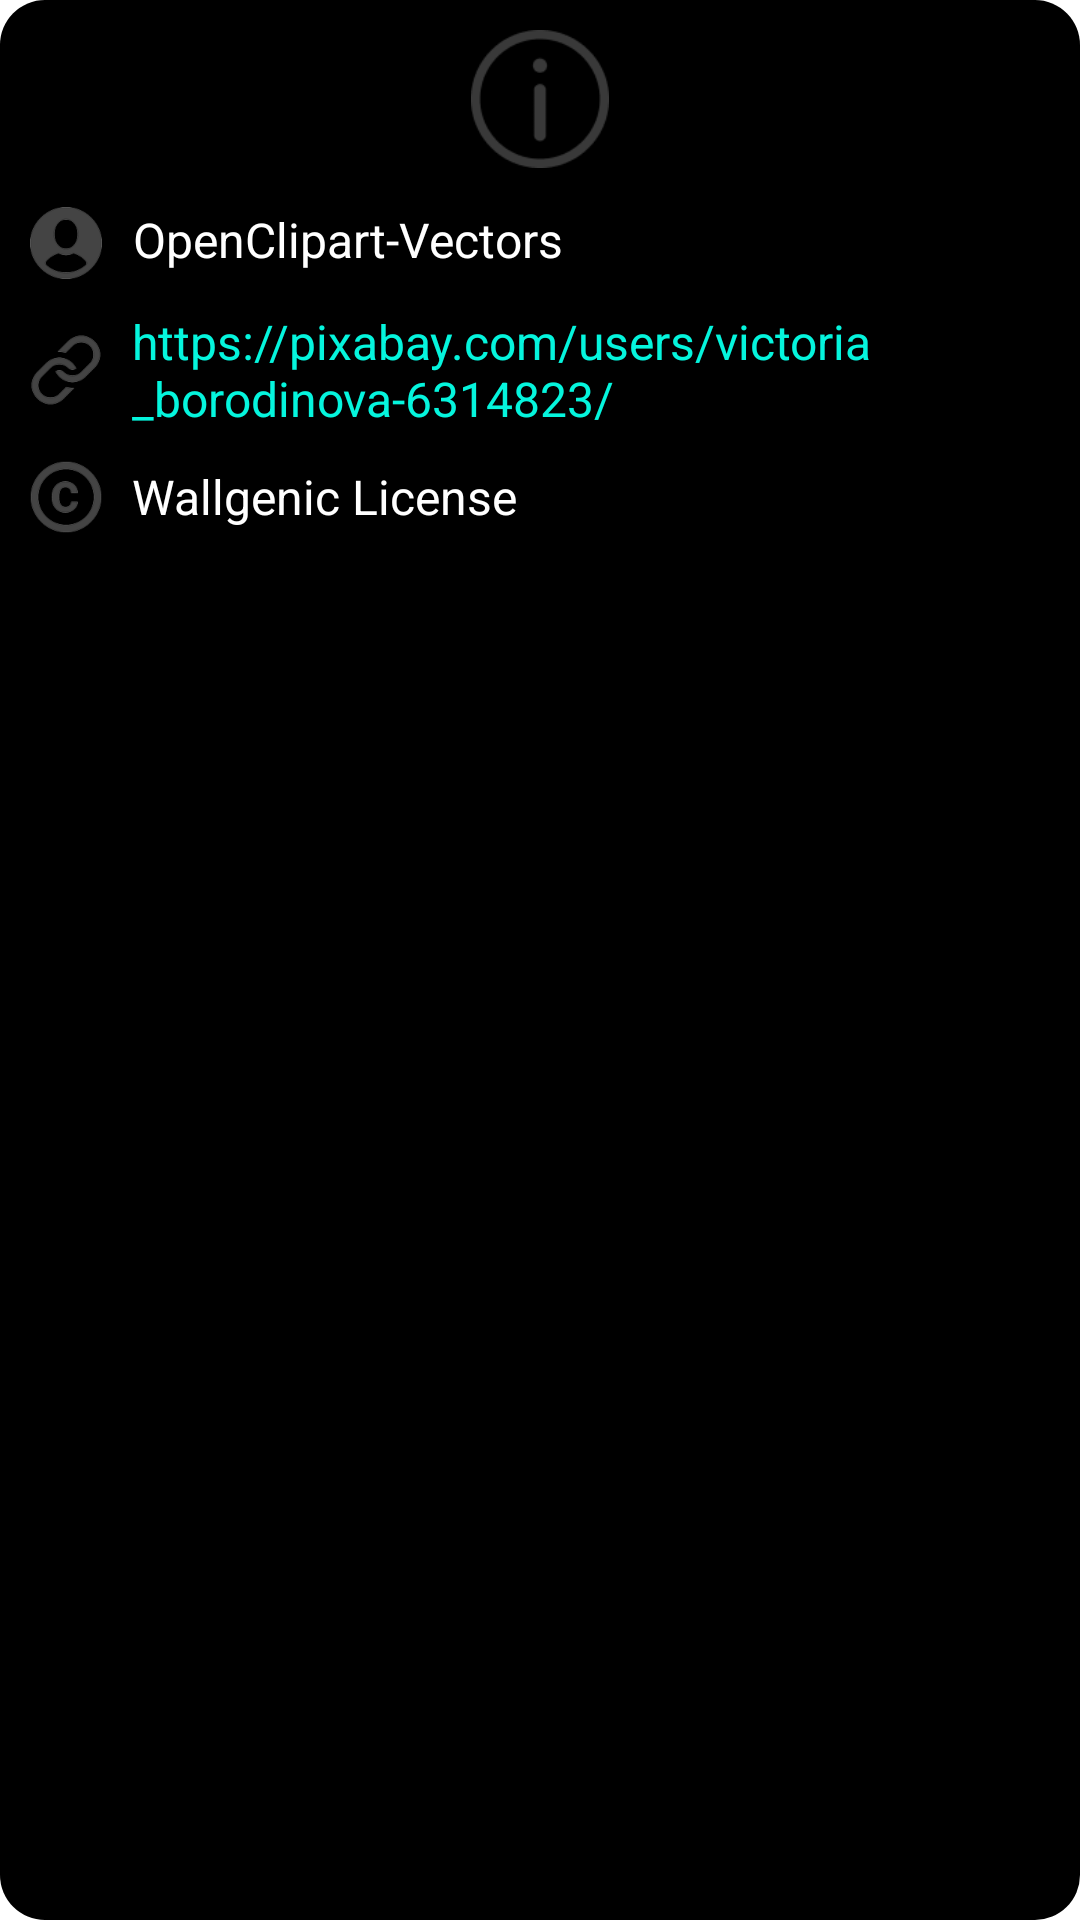

Icon bounding boxes for this 1080px×1920px phone screenshot, format (x1, y1, x2, y2):
copyright: (31, 462, 101, 532)
info: (471, 30, 609, 168)
link: (31, 335, 101, 405)
